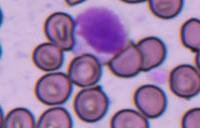L: (76, 4, 129, 59)
